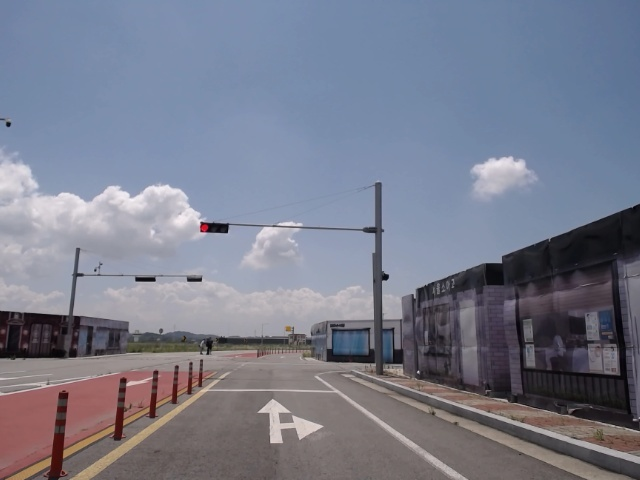red_3: (198, 221, 230, 234)
